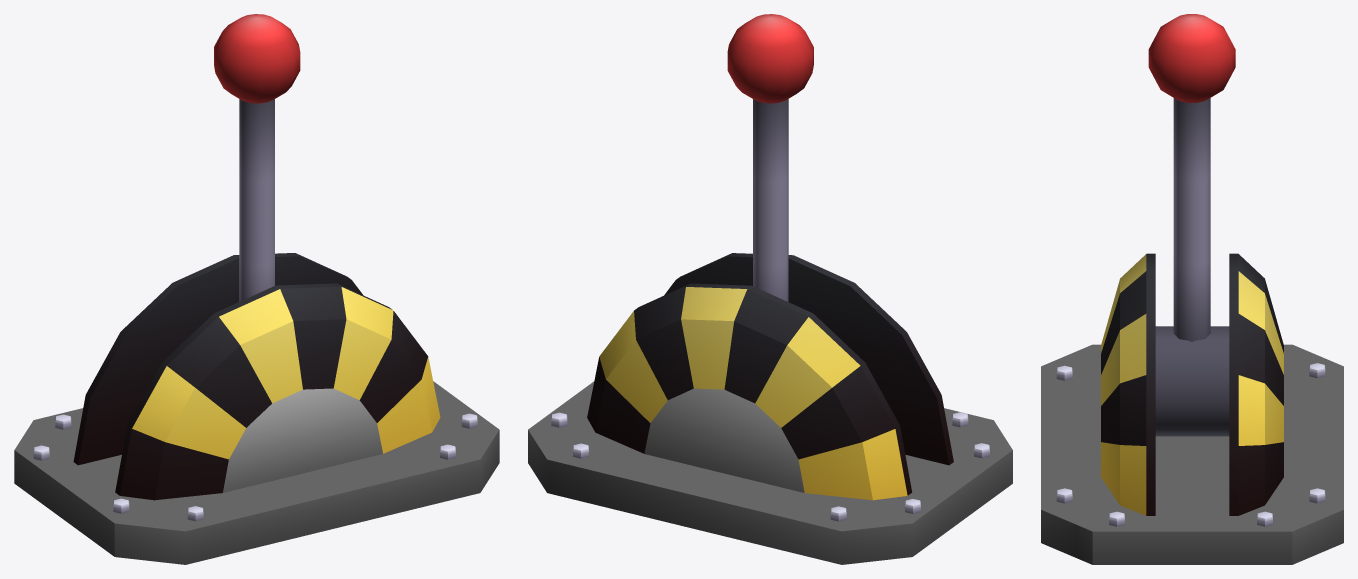
Rendered from lever.fbx.
3 views of the same model, side by side, from view 1: azimuth 30°, elevation 25°; view 2: azimuth 150°, elevation 25°; view 3: azimuth 270°, elevation 25° (orthographic).
Parts seen in each view (by area): view 1: Sphere001, Cylinder009; view 2: Sphere001, Cylinder009; view 3: Sphere001, Cylinder009.
Part boxes in pixels (x1,y1,x2,y2): Sphere001: (14, 253, 499, 564); Cylinder009: (214, 14, 300, 301); Sphere001: (528, 253, 1012, 564); Cylinder009: (727, 14, 813, 301); Sphere001: (1041, 253, 1343, 564); Cylinder009: (1148, 14, 1235, 436).
Bounding box in the file's own units: 47.24 × 53.41 × 32.32.
